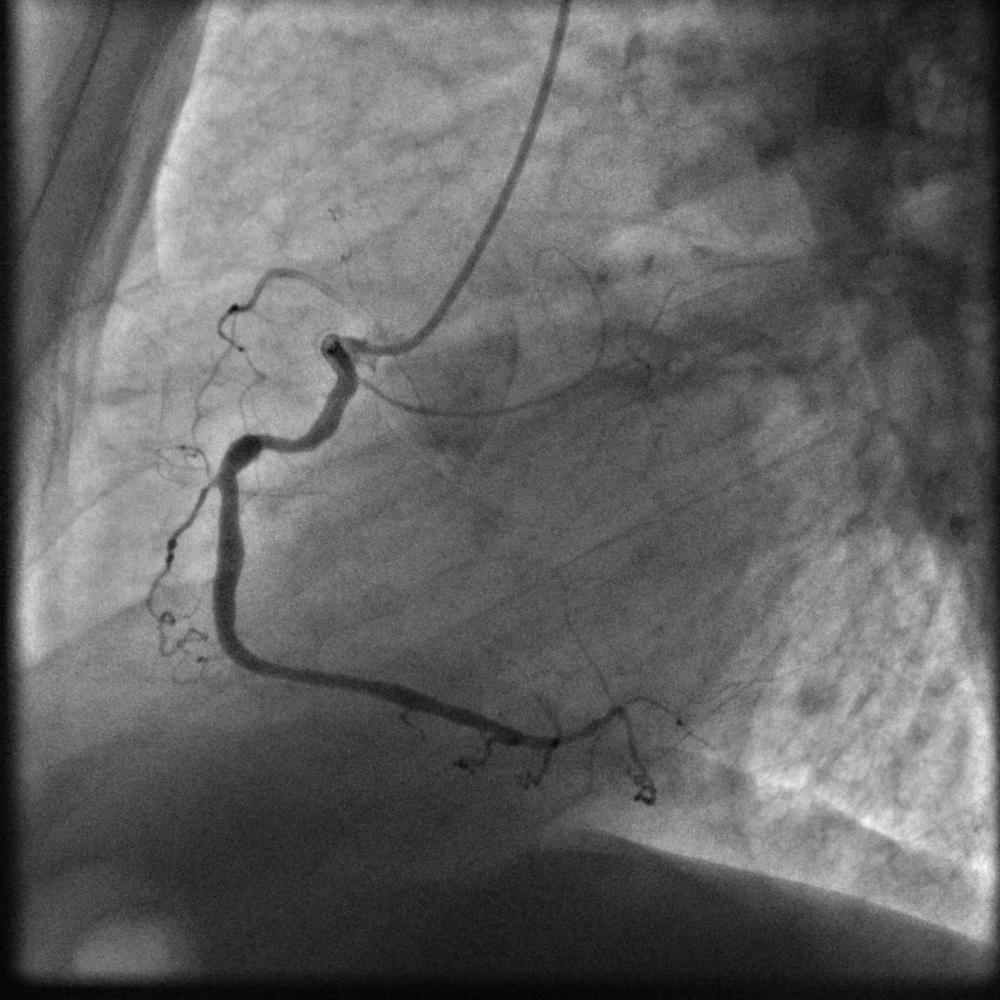Stenosis: (257, 430, 282, 461)
